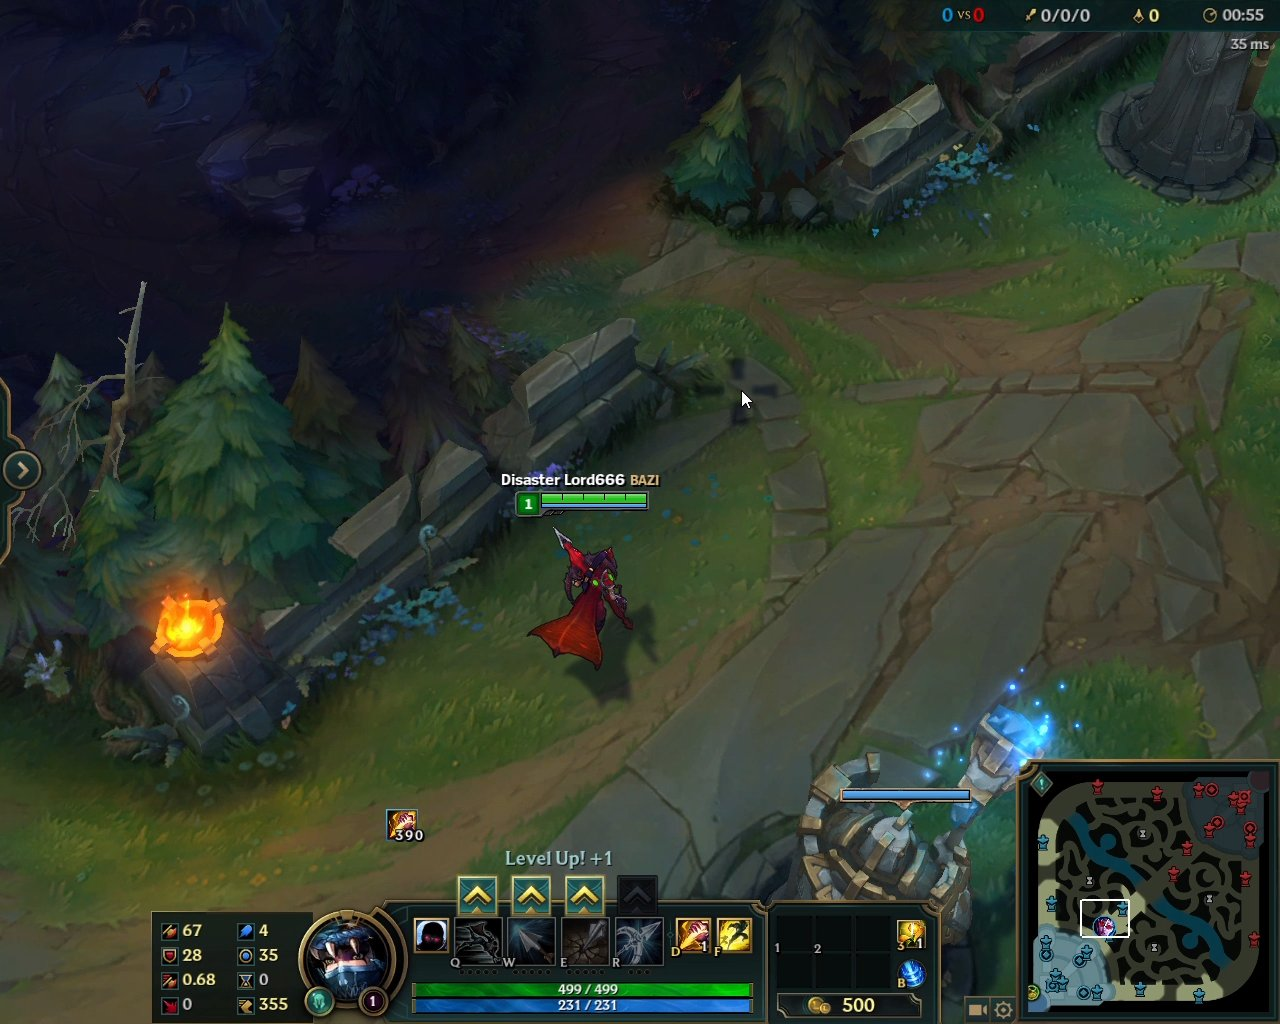Vayne: (523, 520, 657, 679)
